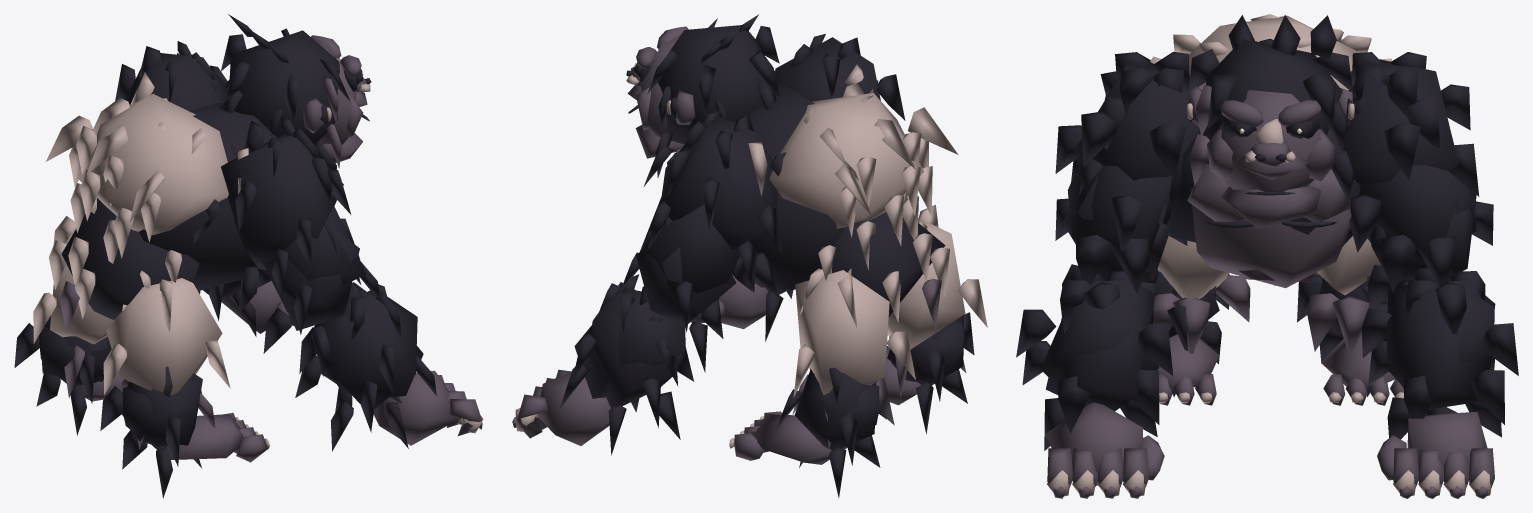
3 renders of one model, left to right at view 1: azimuth 30°, elevation 25°; view 2: azimuth 150°, elevation 25°; view 3: azimuth 270°, elevation 25°, orthographic. The views are drawn at different scales.
Parts seen in each view (by area): view 1: armR__pal_uiDark.001, torso__pal_sidewalk.001, foreArmR__pal_uiDark.001, legR__pal_sidewalk.001, head__pal_uiDark.001, torso__pal_uiDark.001, shinR__pal_uiDark.001, hip__pal_uiDark.001, armL__pal_uiDark.001, shinL__pal_uiDark.001, handR__pal_asphalt.001, head__pal_asphalt.001 (+7 smaller); view 2: armL__pal_uiDark.001, torso__pal_sidewalk.001, foreArmL__pal_uiDark.001, head__pal_uiDark.001, legL__pal_sidewalk.001, torso__pal_uiDark.001, shinL__pal_uiDark.001, armR__pal_uiDark.001, hip__pal_uiDark.001, legR__pal_sidewalk.001, handL__pal_asphalt.001, shinR__pal_uiDark.001 (+9 smaller); view 3: armL__pal_uiDark.001, armR__pal_uiDark.001, foreArmL__pal_uiDark.001, foreArmR__pal_uiDark.001, head__pal_asphalt.001, head__pal_uiDark.001, torso__pal_asphalt.001, handR__pal_asphalt.001, handL__pal_asphalt.001, torso__pal_sidewalk.001, footL__pal_asphalt.001, legR__pal_asphalt.001 (+10 smaller).
Boxes of the visible parts, x1,y1,x2,y2 form: armR__pal_uiDark.001: [193, 116, 379, 376]; torso__pal_sidewalk.001: [46, 94, 228, 284]; foreArmR__pal_uiDark.001: [295, 282, 436, 451]; legR__pal_sidewalk.001: [103, 270, 230, 395]; head__pal_uiDark.001: [219, 14, 371, 142]; torso__pal_uiDark.001: [139, 102, 276, 290]; shinR__pal_uiDark.001: [100, 366, 202, 498]; hip__pal_uiDark.001: [61, 198, 199, 319]; armL__pal_uiDark.001: [115, 41, 227, 110]; shinL__pal_uiDark.001: [14, 315, 111, 435]; handR__pal_asphalt.001: [373, 370, 482, 445]; head__pal_asphalt.001: [303, 35, 367, 168]; armL__pal_uiDark.001: [620, 111, 786, 372]; torso__pal_sidewalk.001: [769, 83, 958, 281]; foreArmL__pal_uiDark.001: [560, 274, 693, 455]; head__pal_uiDark.001: [626, 14, 779, 177]; legL__pal_sidewalk.001: [793, 268, 915, 397]; torso__pal_uiDark.001: [733, 83, 844, 290]; shinL__pal_uiDark.001: [776, 367, 886, 498]; armR__pal_uiDark.001: [774, 34, 905, 120]; hip__pal_uiDark.001: [803, 212, 945, 316]; legR__pal_sidewalk.001: [887, 204, 987, 349]; handL__pal_asphalt.001: [512, 369, 610, 445]; shinR__pal_uiDark.001: [887, 312, 974, 434]; armL__pal_uiDark.001: [1342, 52, 1493, 309]; armR__pal_uiDark.001: [1055, 52, 1201, 324]; foreArmL__pal_uiDark.001: [1361, 268, 1518, 439]; foreArmR__pal_uiDark.001: [1016, 268, 1173, 450]; head__pal_asphalt.001: [1189, 84, 1352, 228]; head__pal_uiDark.001: [1186, 15, 1354, 202]; torso__pal_asphalt.001: [1187, 164, 1351, 288]; handR__pal_asphalt.001: [1045, 402, 1164, 498]; handL__pal_asphalt.001: [1377, 411, 1494, 498]; torso__pal_sidewalk.001: [1173, 14, 1371, 90]; footL__pal_asphalt.001: [1321, 334, 1403, 405]; legR__pal_asphalt.001: [1153, 275, 1250, 354].
Size of the model in its own units: 1.94 by 2.17 by 2.27.
